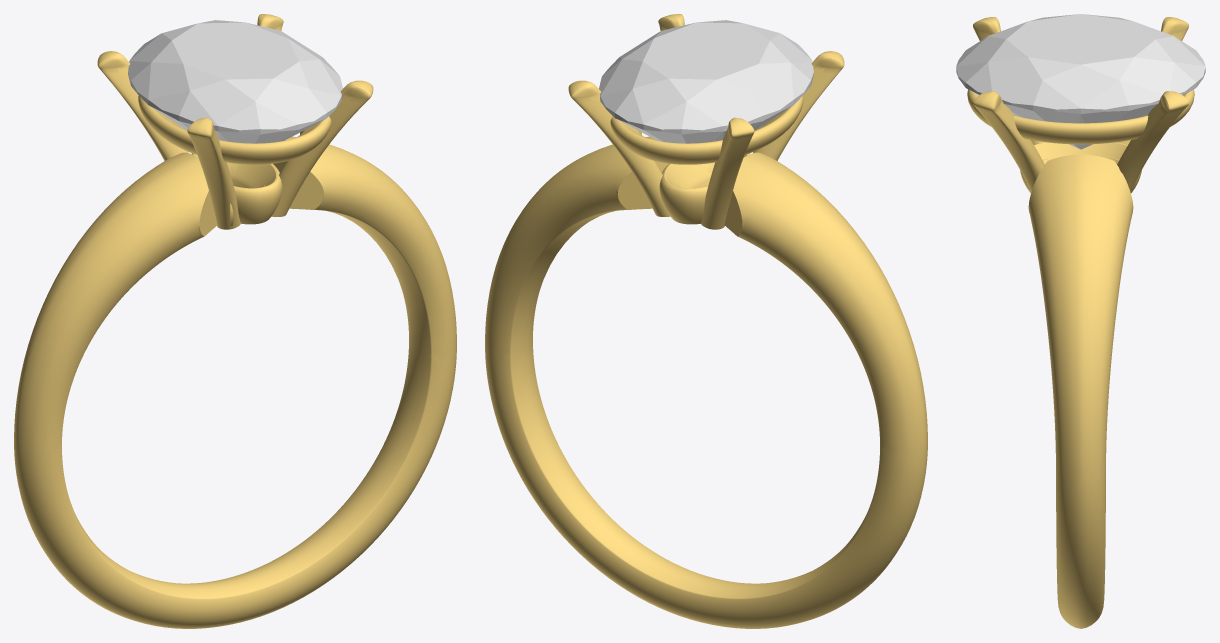
File: CamYGoval_blender.glb
3 views of the same model, side by side, from view 1: azimuth 30°, elevation 25°; view 2: azimuth 150°, elevation 25°; view 3: azimuth 270°, elevation 25° (orthographic).
Parts seen in each view (by area): view 1: V1 Cam YG for 3d model, Cam oval dia for 3d model; view 2: V1 Cam YG for 3d model, Cam oval dia for 3d model; view 3: V1 Cam YG for 3d model, Cam oval dia for 3d model.
Boxes of the visible parts, bbox=[...] form: V1 Cam YG for 3d model: bbox=[14, 14, 456, 628]; Cam oval dia for 3d model: bbox=[128, 20, 342, 143]; V1 Cam YG for 3d model: bbox=[485, 14, 927, 628]; Cam oval dia for 3d model: bbox=[599, 20, 813, 143]; V1 Cam YG for 3d model: bbox=[967, 17, 1194, 628]; Cam oval dia for 3d model: bbox=[956, 14, 1205, 149].
Bounding box in the file's own units: 20.1 × 25.03 × 10.
